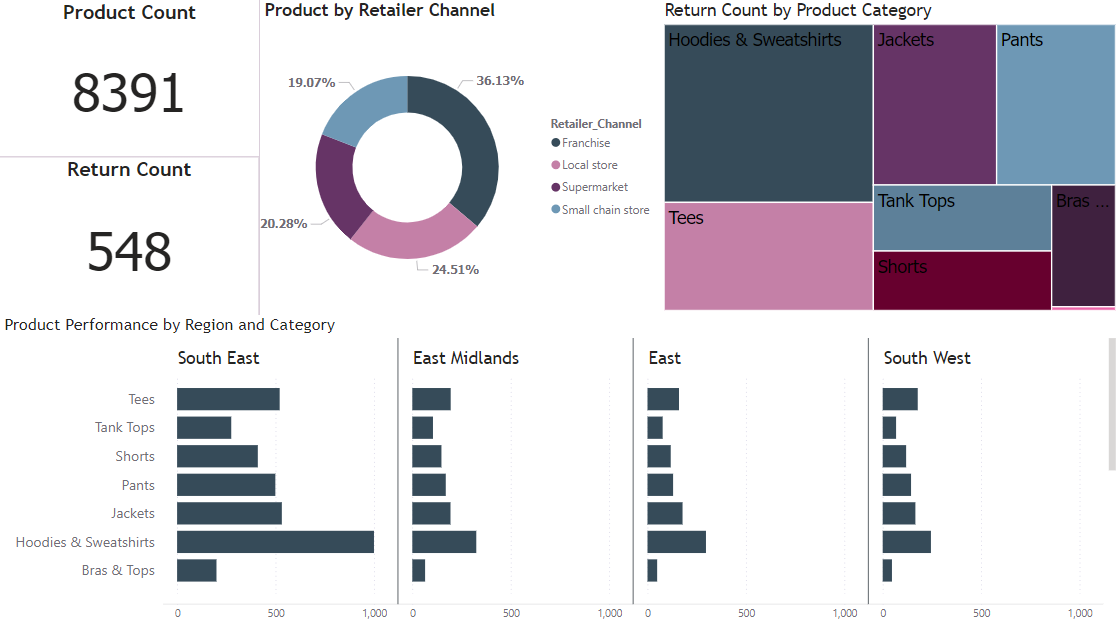

Layout of this report page (visuals, bound fields, positions):
{"tool":"powerbi","page":{"name":"COO","canvas":[1280,720],"ordinal":1},"visuals":[{"type":"barChart","title":"Product Performance by Region and Category","fields":{"Rows":["Retailers.Area"],"Y":["CountNonNull(Orders.Order_ID)"],"Category":["Products.Product_Category"]},"box":[0,360,1280,360],"z":0},{"type":"card","title":"Product Count","fields":{"Values":["CountNonNull(Orders.Order_ID)"]},"box":[0,0,295.7,178.6],"z":1000},{"type":"treemap","title":"Return Count by Product Category","fields":{"Values":["CountNonNull(Returns.Order_ID)"],"Group":["Products.Product_Category","Retailers.Region"]},"box":[754.3,0,525.7,360],"z":2000},{"type":"card","title":"Return Count","fields":{"Values":["CountNonNull(Returns.Order_ID)"]},"box":[0,180,295,181.7],"z":3000},{"type":"donutChart","title":"Product by Retailer Channel","fields":{"Category":["Retailers.Retailer_Channel","Products.Product_Category"],"Y":["CountNonNull(Orders.Order_ID)"]},"box":[296.7,0,460,360],"z":4000}]}

Visuals, with their boxes in screenshot pixels (x1, y1, x2, y2), scaled from the page's 1280x720 canvas onto the 1118x626 screenshot:
"Product Performance by Region and Category" barChart: 0/313/1117/625
"Product Count" card: 0/0/258/155
"Return Count by Product Category" treemap: 659/0/1117/313
"Return Count" card: 0/156/258/314
"Product by Retailer Channel" donutChart: 259/0/661/313
